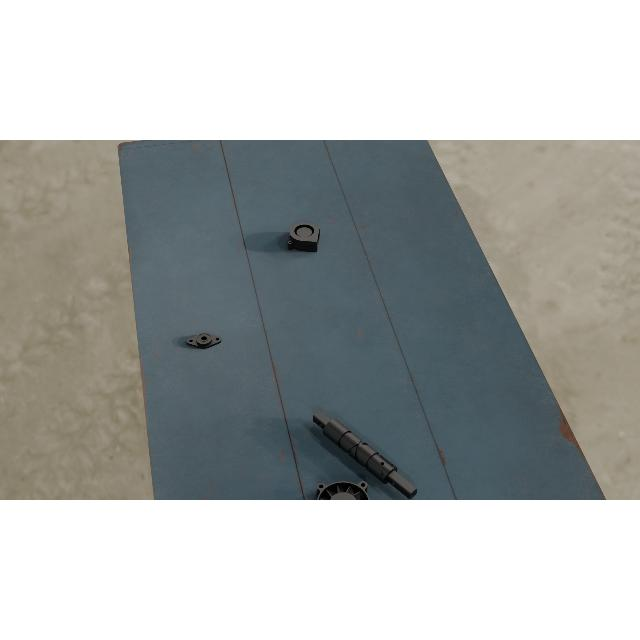Pieza1: (309, 404, 421, 500)
Pieza2: (186, 330, 222, 350)
Pieza3: (288, 221, 320, 253)
Pieza4: (316, 480, 372, 500)
